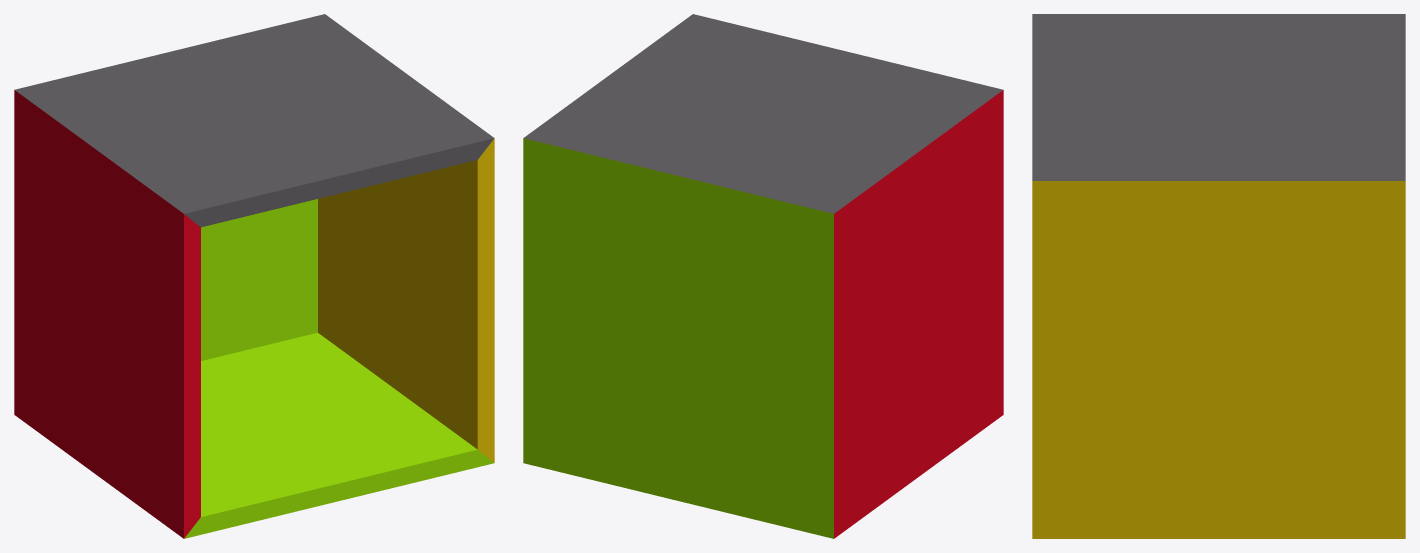
The model's file is daaa.fbx.
The picture shows the model from 3 angles, left to right: view 1: azimuth 30°, elevation 25°; view 2: azimuth 150°, elevation 25°; view 3: azimuth 270°, elevation 25°; orthographic projection. The views are drawn at different scales.
Visible parts, largest first — view 1: Cube; view 2: Cube; view 3: Cube.
Boxes of the visible parts, x1=… form: Cube: x1=14, y1=14, x2=494, y2=538; Cube: x1=523, y1=14, x2=1003, y2=538; Cube: x1=1032, y1=14, x2=1405, y2=538.
Size of the model in its own units: 55.29 by 55.29 by 52.29.
